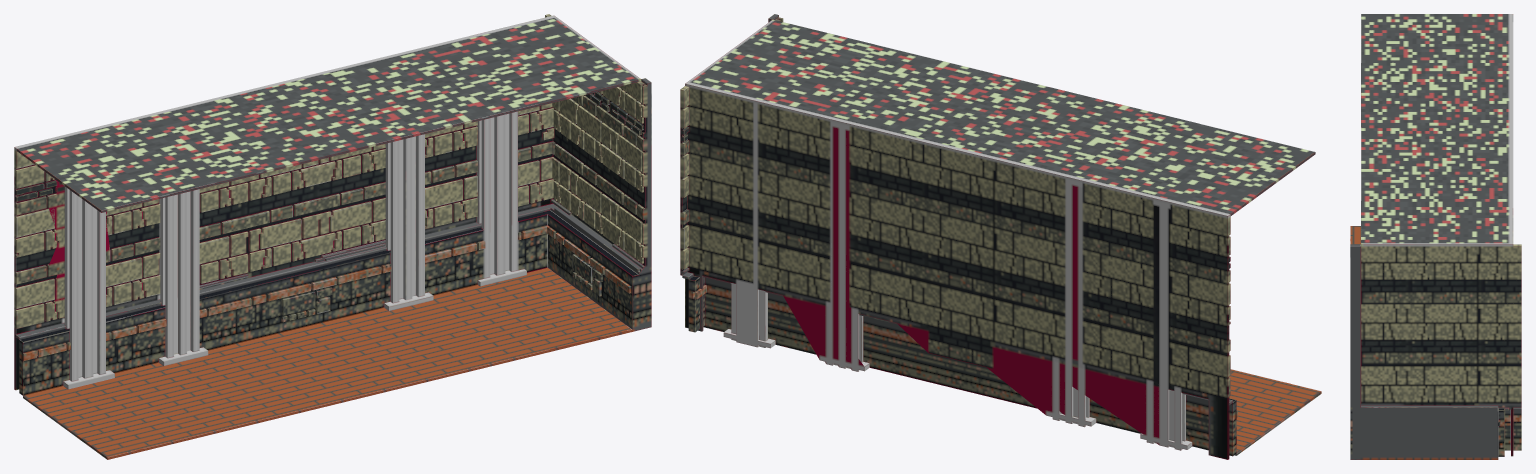
Rendered from Castle Room Coridoro.fbx.
3 renders of one model, left to right at view 1: azimuth 30°, elevation 25°; view 2: azimuth 150°, elevation 25°; view 3: azimuth 270°, elevation 25°, orthographic. The views are drawn at different scales.
Parts seen in each view (by area): view 1: Untitled; view 2: Untitled; view 3: Untitled.
Part boxes in pixels (x1,y1,x2,y2): Untitled: (14, 14, 651, 459); Untitled: (680, 14, 1321, 459); Untitled: (1350, 14, 1521, 459).
Bounding box in the file's own units: 2560 × 1100 × 800.
Materials: 1 (1 with a texture image).
